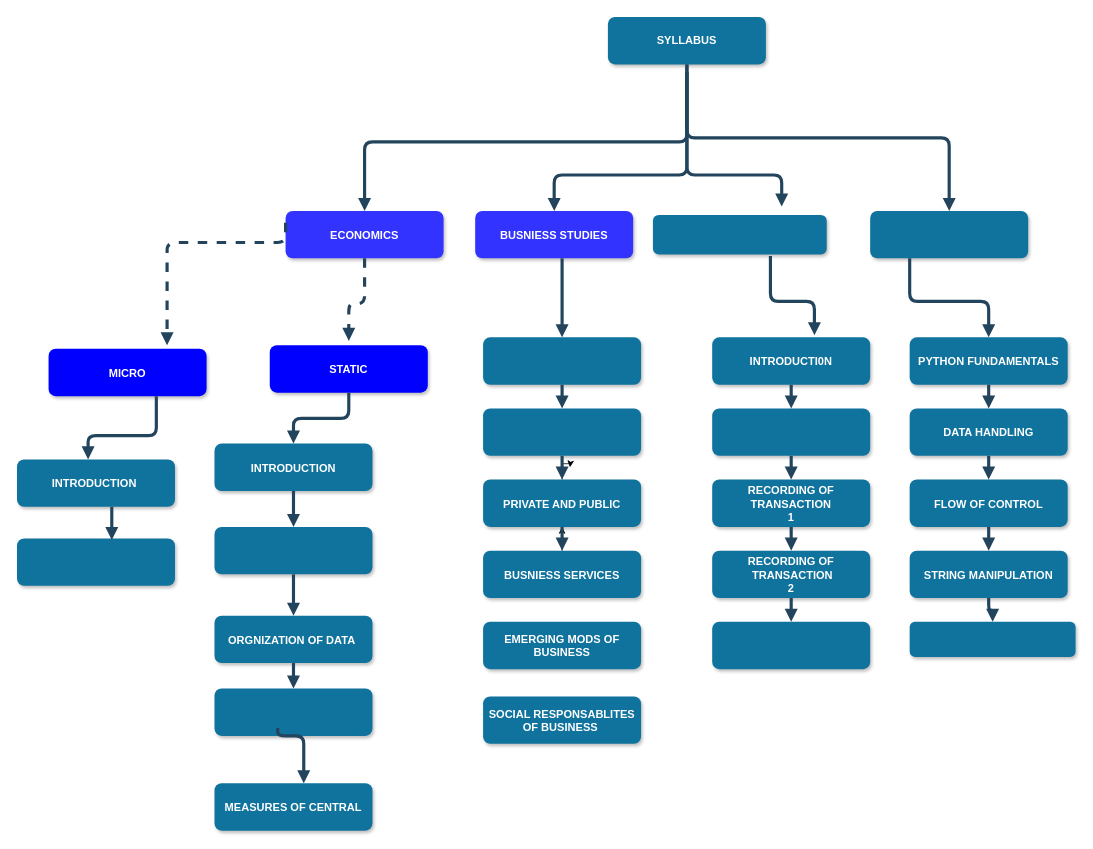
Some shapes in this 1093 by 849 pixel diagram are drawn without their labels. Each missing label, with the centre of its shape:
"ACCOUNTS" belongs at [740,235].
"BANK RECONCILIATION STATEMENT" belongs at [792,646].
"COLLECTION OF DATA" belongs at [294,551].
"COMPUTER" belongs at [950,235].
"EVOLUTION AND FUNDAMENTALS OF BUSINESS" belongs at [562,362].
"FORMS OF BUSINESS" belongs at [562,433].
"LIST MANIPULATION" belongs at [993,640].
"PRESENTATION OF DATA" belongs at [294,713].
"THEORY OF MICROECONOMICS" belongs at [96,563].
"THORY BASE ACCOUNTING" belongs at [792,433].
